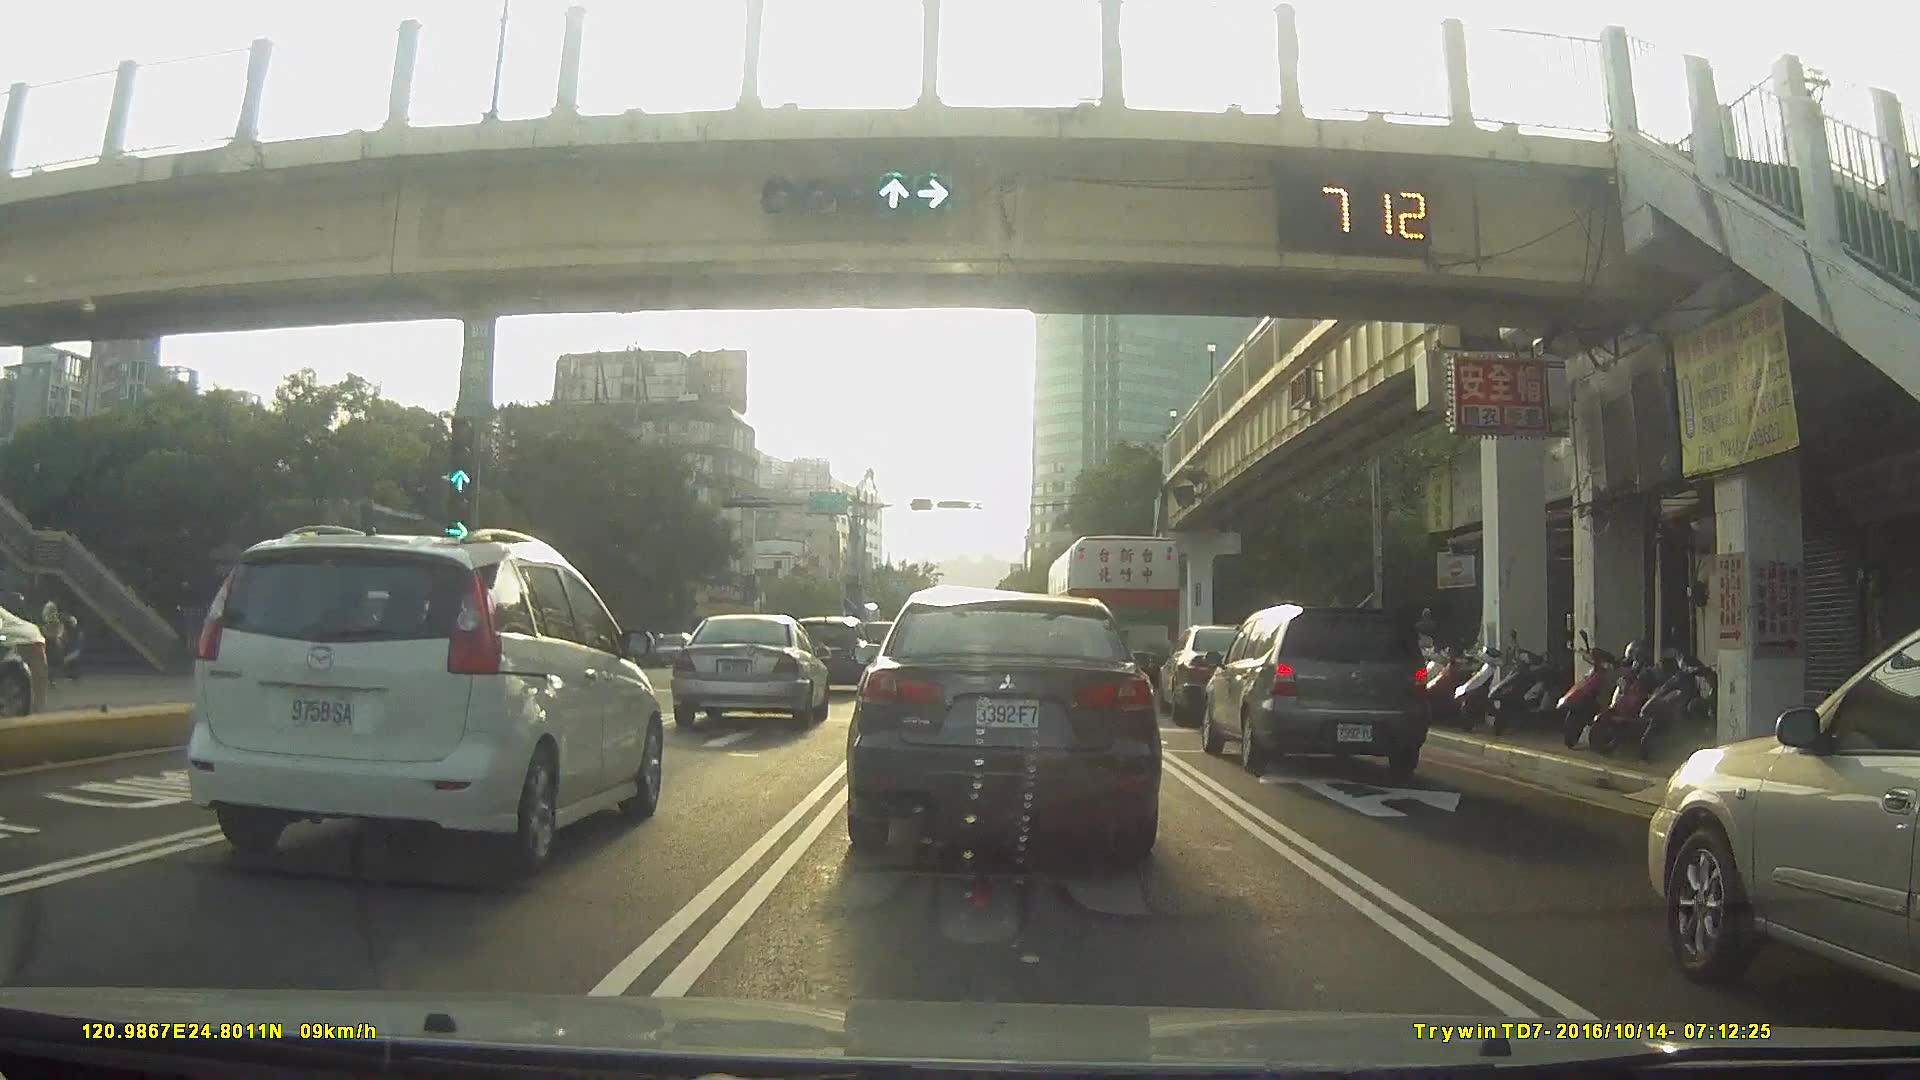vehicle: (175, 525, 666, 876), (1643, 625, 1920, 998), (845, 585, 1156, 866), (1199, 604, 1431, 785), (1043, 535, 1189, 691), (669, 613, 825, 731), (1158, 621, 1279, 723), (1, 592, 63, 727), (787, 616, 872, 694), (645, 632, 692, 669), (640, 632, 684, 669)
